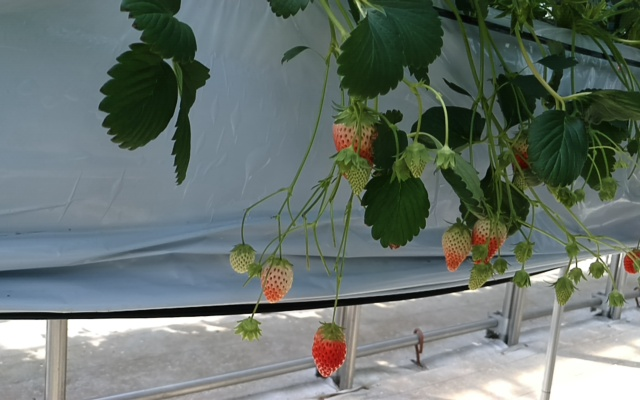GreenStrawberry: (467, 214, 508, 264), (511, 130, 546, 178), (441, 222, 473, 274), (261, 257, 293, 306), (345, 157, 370, 198), (403, 142, 428, 180), (228, 242, 254, 275), (468, 261, 494, 292), (554, 278, 574, 306), (512, 168, 532, 192)
MatureStrawberry: (331, 109, 380, 167), (311, 323, 347, 378), (623, 247, 640, 276)
